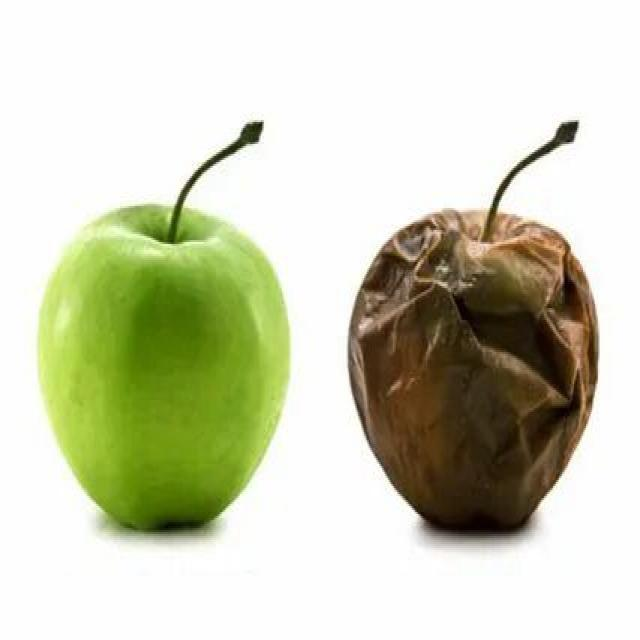fresh_apple: (39, 203, 291, 535)
rotten_apple: (350, 213, 600, 531)
